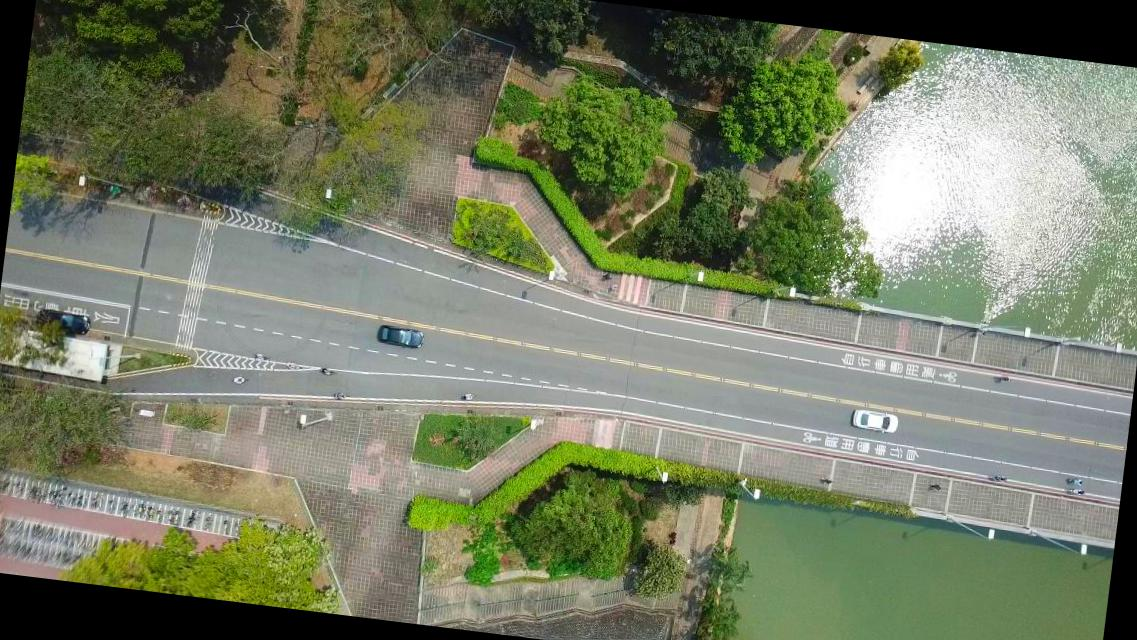vehicle: (34, 307, 91, 337), (850, 407, 899, 435), (375, 324, 424, 351)
